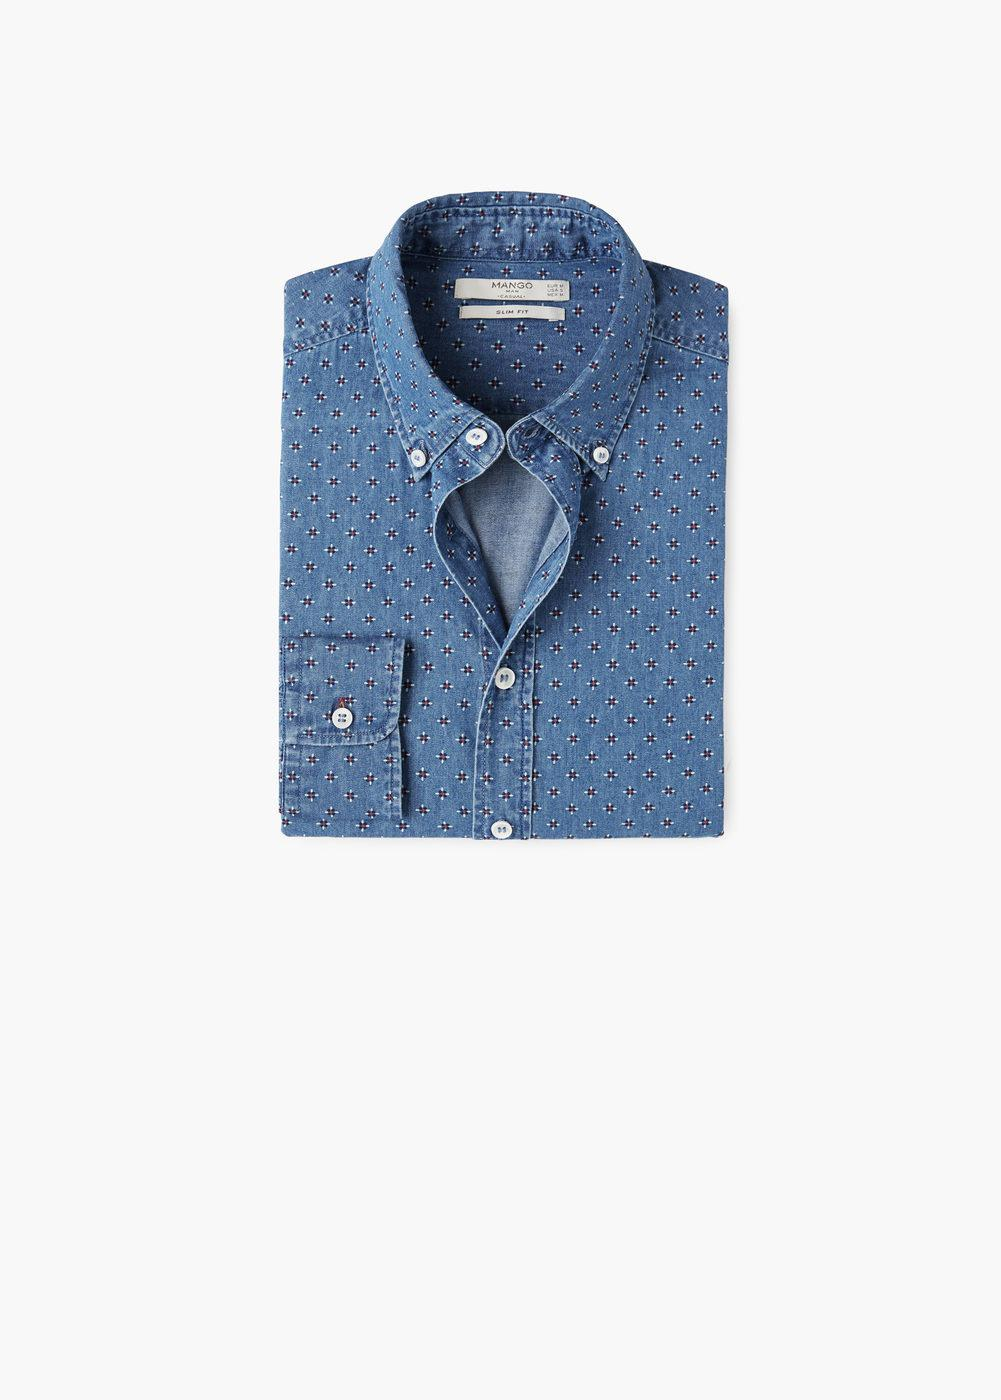teeshirt: (259, 180, 744, 869)
